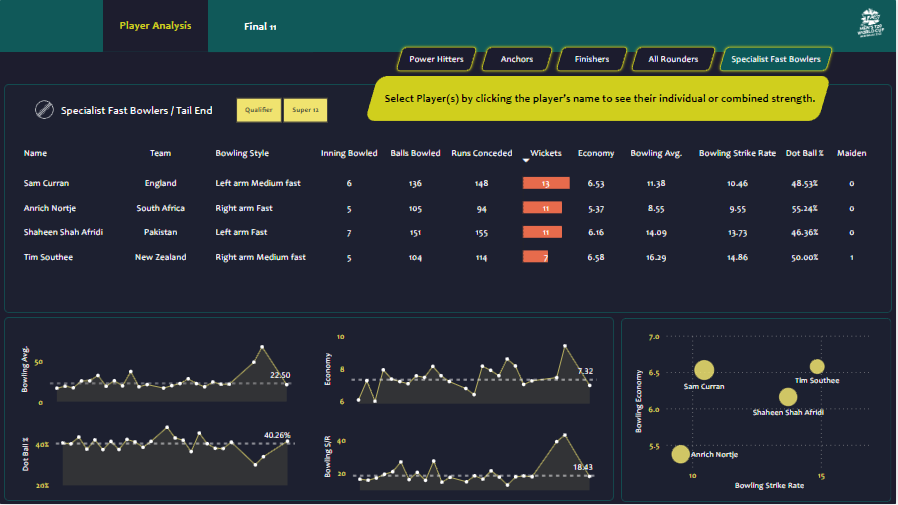

What the dashboard file says about the page in this screenshot:
{"tool":"powerbi","page":{"name":"New Specialist Fast Bowlers /  Tail End","canvas":[1280,720],"ordinal":4},"visuals":[{"type":"shape","box":[0,73.7,1280.2,646.3],"z":0},{"type":"shape","box":[886.8,454.5,386.4,262.7],"z":1000},{"type":"scatterChart","fields":{"Category":["player_profile.name"],"X":["key measures.Bowling Strike Rate"],"Y":["key measures.Bowling Economy"],"Size":["key measures.Wickets"]},"box":[901.4,465.7,355.7,240],"z":2000},{"type":"image","box":[41.7,139,44.5,36.1],"z":3000},{"type":"shape","box":[5.7,120,1268.6,327.1],"z":4000},{"type":"tableEx","fields":{"Values":["player_profile.name","player_profile.team","player_profile.bowling_style","key measures.Total Inning Bowled","key measures.Balls Bowled","key measures.Runs Conceded","key measures.Wickets","key measures.Bowling Economy","key measures.Bowling Average","key measures.Bowling Strike Rate","key measures.Dot Ball %","Sum(bowling_data.maiden)"]},"box":[23.5,196.3,1234.7,214.7],"z":5000},{"type":"shape","box":[522.1,108.6,665.7,64.3],"z":6000},{"type":"card","fields":{"Values":["key measures.Strike Rate"]},"box":[854.9,106.3,120,64.3],"z":7000},{"type":"card","fields":{"Values":["key measures.Boundary %"]},"box":[1042.1,106.3,110,64.3],"z":8000},{"type":"card","fields":{"Values":["key measures.Average Balls Faced"]},"box":[927.8,106.3,155.7,65.7],"z":9000},{"type":"card","fields":{"Values":["key measures.Batting Avg"]},"box":[774.9,106.3,118.6,64.3],"z":10000},{"type":"slicer","fields":{"Values":["match_summary.stage"]},"box":[311.4,132.9,181.4,48.6],"z":11000},{"type":"shape","title":"scasfas","box":[78.8,132.5,233.2,48.7],"z":12000},{"type":"shape","box":[562.1,120,187.1,41.4],"z":13000},{"type":"shape","box":[5.6,453.1,871.5,262.7],"z":14000},{"type":"actionButton","box":[562.1,62.5,124.3,42.9],"z":15000},{"type":"actionButton","box":[682.4,62.9,111.4,42.9],"z":16000},{"type":"actionButton","box":[789.9,62.9,111.4,42.9],"z":17000},{"type":"actionButton","box":[897.4,62.9,130,42.9],"z":18000},{"type":"actionButton","box":[1023.5,62.9,171.4,42.9],"z":19000},{"type":"areaChart","fields":{"Category":["match_summary.Date.Variation.Date Hierarchy.Year","match_summary.Date.Variation.Date Hierarchy.Quarter","match_summary.Date.Variation.Date Hierarchy.Month","match_summary.Date.Variation.Date Hierarchy.Day"],"Y":["key measures.Bowling Average"]},"box":[23.6,467,400.3,119.5],"z":20000},{"type":"areaChart","fields":{"Category":["match_summary.Date.Variation.Date Hierarchy.Year","match_summary.Date.Variation.Date Hierarchy.Quarter","match_summary.Date.Variation.Date Hierarchy.Month","match_summary.Date.Variation.Date Hierarchy.Day"],"Y":["key measures.Bowling Economy"]},"box":[457.3,465.6,400.3,120.9],"z":21000},{"type":"areaChart","fields":{"Category":["match_summary.Date.Variation.Date Hierarchy.Year","match_summary.Date.Variation.Date Hierarchy.Quarter","match_summary.Date.Variation.Date Hierarchy.Month","match_summary.Date.Variation.Date Hierarchy.Day"],"Y":["key measures.Dot Ball %"]},"box":[25,592.1,400,114],"z":22000},{"type":"areaChart","fields":{"Category":["match_summary.Date.Variation.Date Hierarchy.Year","match_summary.Date.Variation.Date Hierarchy.Quarter","match_summary.Date.Variation.Date Hierarchy.Month","match_summary.Date.Variation.Date Hierarchy.Day"],"Y":["key measures.Bowling Strike Rate"]},"box":[457.3,592.1,400,114],"z":23000},{"type":"actionButton","box":[147.3,0,150.1,73.7],"z":24000},{"type":"actionButton","box":[297.5,1.4,150,73],"z":25000},{"type":"shape","box":[493.4,119.5,728.3,40.3],"z":26000},{"type":"image","box":[1220,3,48,59],"z":27000}]}

Visuals, with their boxes in screenshot pixels (x1, y1, x2, y2), scaled from the page's 1280x720 canvas onto the 898x505 screenshot:
shape: 0:52:897:504
shape: 622:319:893:503
scatterChart - player_profile.name x key measures.Bowling Strike Rate: 632:327:882:495
image: 29:97:60:123
shape: 4:84:894:314
tableEx - player_profile.name x player_profile.team: 16:138:883:288
shape: 366:76:833:121
card - key measures.Strike Rate: 600:75:684:120
card - key measures.Boundary %: 731:75:808:120
card - key measures.Average Balls Faced: 651:75:760:121
card - key measures.Batting Avg: 544:75:627:120
slicer - match_summary.stage: 218:93:346:127
"scasfas" shape: 55:93:219:127
shape: 394:84:526:113
shape: 4:318:615:502
actionButton: 394:44:482:74
actionButton: 479:44:557:74
actionButton: 554:44:632:74
actionButton: 630:44:721:74
actionButton: 718:44:838:74
areaChart - match_summary.Date.Variation.Date Hierarchy.Year x match_summary.Date.Variation.Date Hierarchy.Quarter: 17:328:297:411
areaChart - match_summary.Date.Variation.Date Hierarchy.Year x match_summary.Date.Variation.Date Hierarchy.Quarter: 321:327:602:411
areaChart - match_summary.Date.Variation.Date Hierarchy.Year x match_summary.Date.Variation.Date Hierarchy.Quarter: 18:415:298:495
areaChart - match_summary.Date.Variation.Date Hierarchy.Year x match_summary.Date.Variation.Date Hierarchy.Quarter: 321:415:601:495
actionButton: 103:0:209:52
actionButton: 209:1:314:52
shape: 346:84:857:112
image: 856:2:890:43
